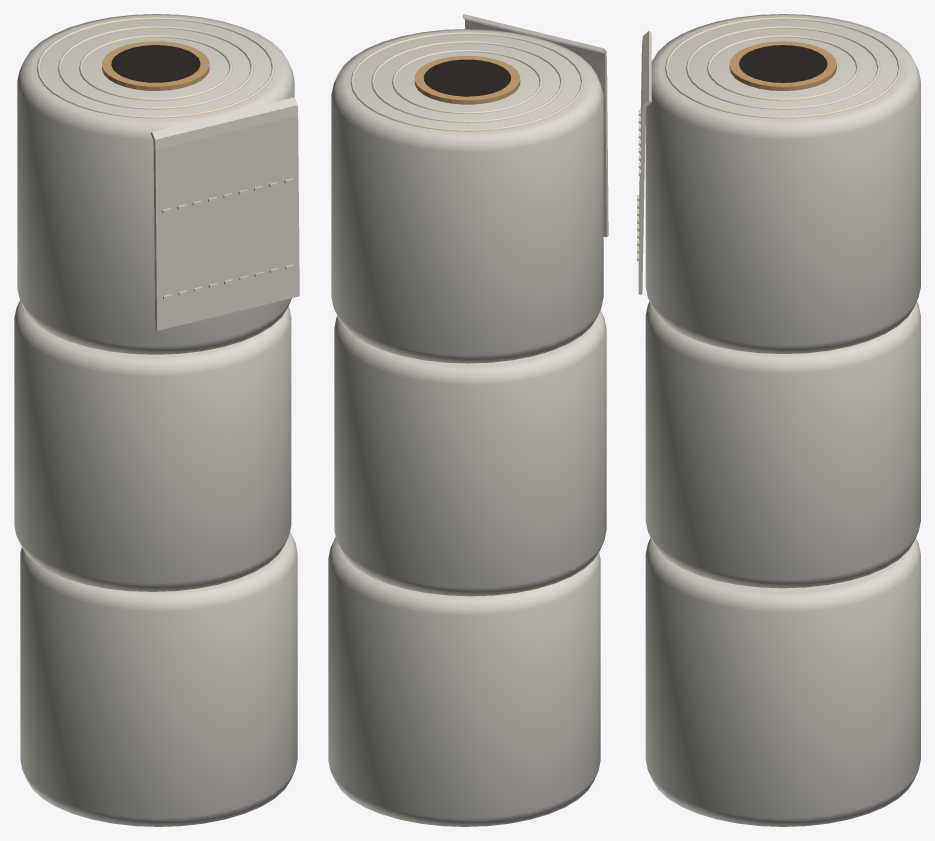
File: hh_cat_loo_roll.glb
The picture shows the model from 3 angles, left to right: view 1: azimuth 30°, elevation 25°; view 2: azimuth 150°, elevation 25°; view 3: azimuth 270°, elevation 25°; orthographic projection.
Visible parts, largest first — view 1: roll.001, roll, roll.002, tail, core_hole, core, layers.002, layers.001, layers; view 2: roll.002, roll.001, roll, tail, core_hole, core, layers.002, layers.001, layers; view 3: roll.002, roll, roll.001, core_hole, core, tail, layers.002, layers.001, layers.
Part boxes in pixels (left/top/right/bottom): roll.001: left=14, top=300, right=291, bottom=591; roll: left=20, top=531, right=297, bottom=826; roll.002: left=17, top=14, right=294, bottom=354; tail: left=150, top=97, right=299, bottom=330; core_hole: left=111, top=45, right=200, bottom=82; core: left=102, top=41, right=209, bottom=90; layers.002: left=37, top=17, right=274, bottom=118; layers.001: left=58, top=26, right=253, bottom=109; layers: left=79, top=35, right=232, bottom=100; roll.002: left=331, top=29, right=603, bottom=363; roll.001: left=334, top=310, right=606, bottom=596; roll: left=328, top=537, right=600, bottom=826; tail: left=462, top=14, right=608, bottom=237; core_hole: left=423, top=59, right=510, bottom=96; core: left=414, top=56, right=520, bottom=104; layers.002: left=350, top=32, right=584, bottom=131; layers.001: left=371, top=41, right=563, bottom=122; layers: left=392, top=49, right=542, bottom=113; roll.002: left=645, top=14, right=920, bottom=353; roll: left=645, top=538, right=920, bottom=826; roll.001: left=645, top=301, right=920, bottom=588; core_hole: left=739, top=45, right=827, bottom=82; core: left=729, top=41, right=836, bottom=90; tail: left=638, top=31, right=651, bottom=294; layers.002: left=665, top=17, right=901, bottom=118; layers.001: left=686, top=26, right=880, bottom=109; layers: left=707, top=35, right=859, bottom=100.
Size of the model in its own units: 0.12 by 0.33 by 0.12.
